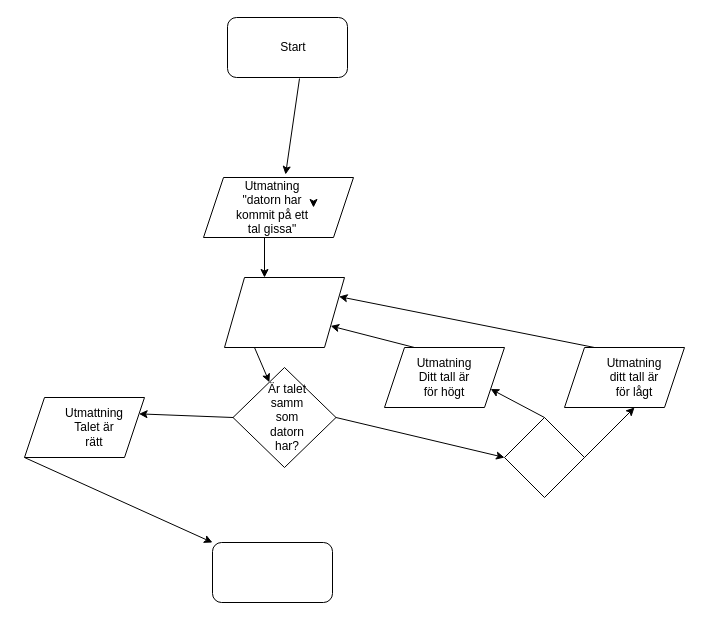
The diagram is 702 pixels wide and 620 high, and some of its shapes have lost their labels. Here are the shapes that lost their labels. From the top down, the box of each, then its label:
(224, 276, 344, 348): Inmatning Skriv ett tal mellan 1-100
(504, 416, 584, 498): Är talet lägre eller högre
(212, 542, 332, 602): Stopp
